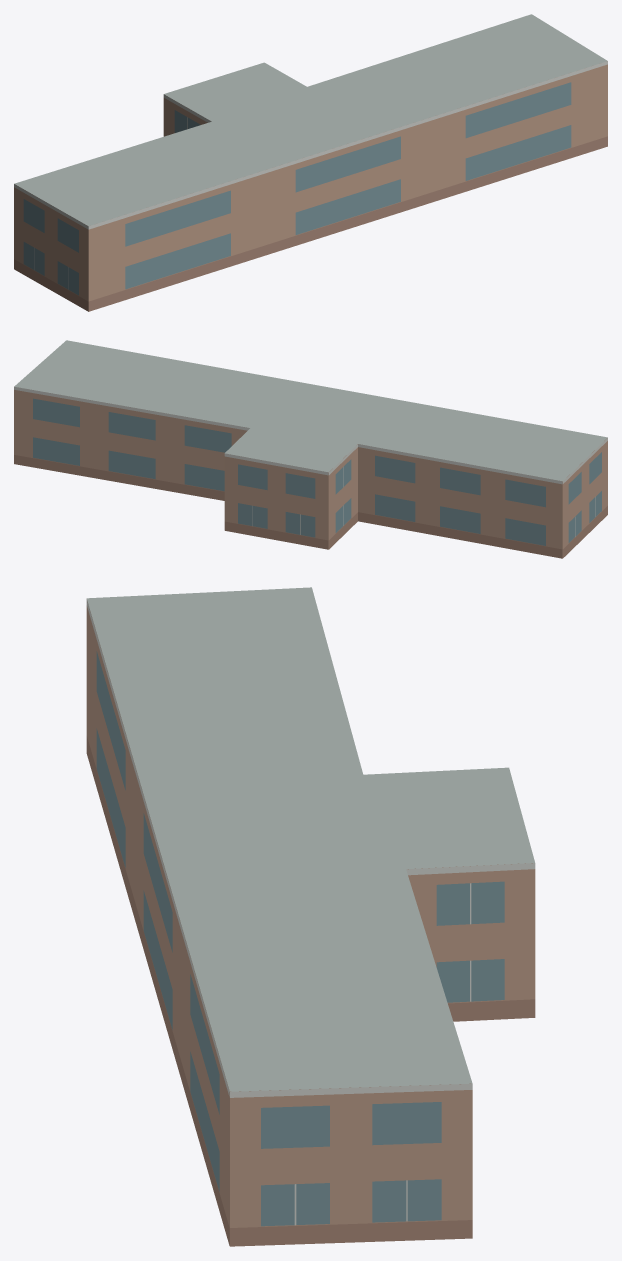
File: survey-upis-32833310.glb
3 views of the same model, one above another, from view 1: azimuth 30°, elevation 25°; view 2: azimuth 150°, elevation 25°; view 3: azimuth 270°, elevation 25° (orthographic). The views are drawn at different scales.
Parts seen in each view (by area): view 1: survey-upis-32833310.tmp; view 2: survey-upis-32833310.tmp; view 3: survey-upis-32833310.tmp.
Boxes of the visible parts, x1=… form: survey-upis-32833310.tmp: x1=14, y1=14, x2=607, y2=311; survey-upis-32833310.tmp: x1=14, y1=340, x2=607, y2=558; survey-upis-32833310.tmp: x1=86, y1=587, x2=535, y2=1246.
Bounding box in the file's own units: 42.64 × 6.1 × 16.03.
